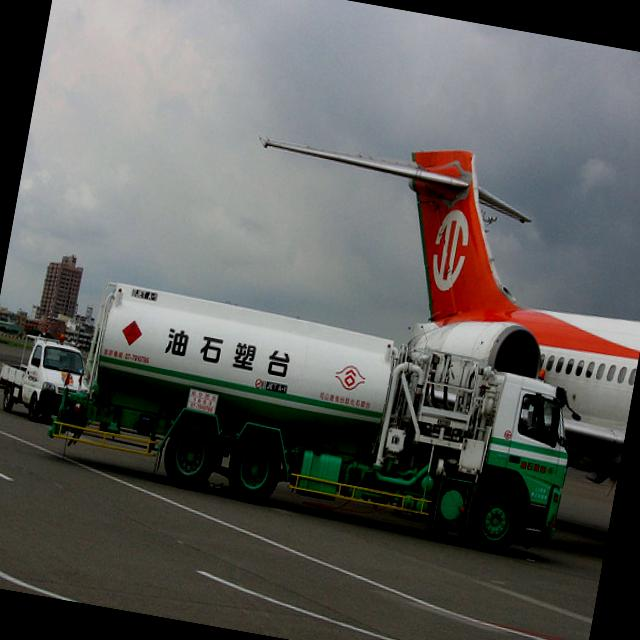Vehicle: (39, 270, 592, 563), (0, 323, 91, 428)
